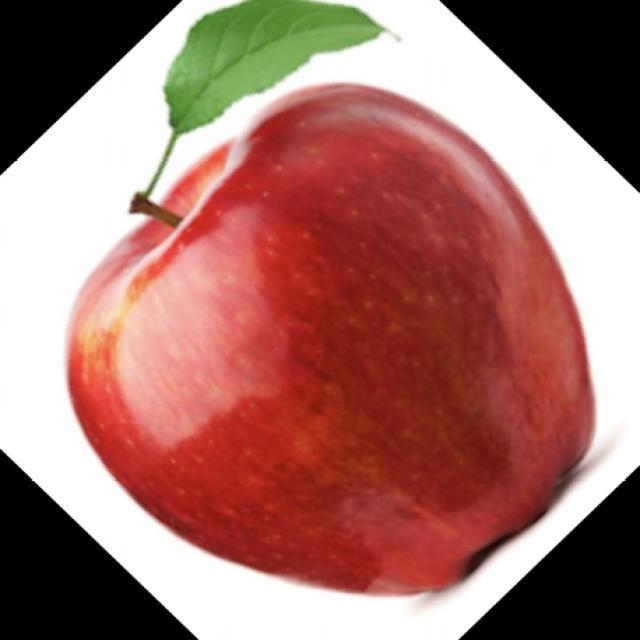Fresh Apple: (61, 76, 599, 604)
